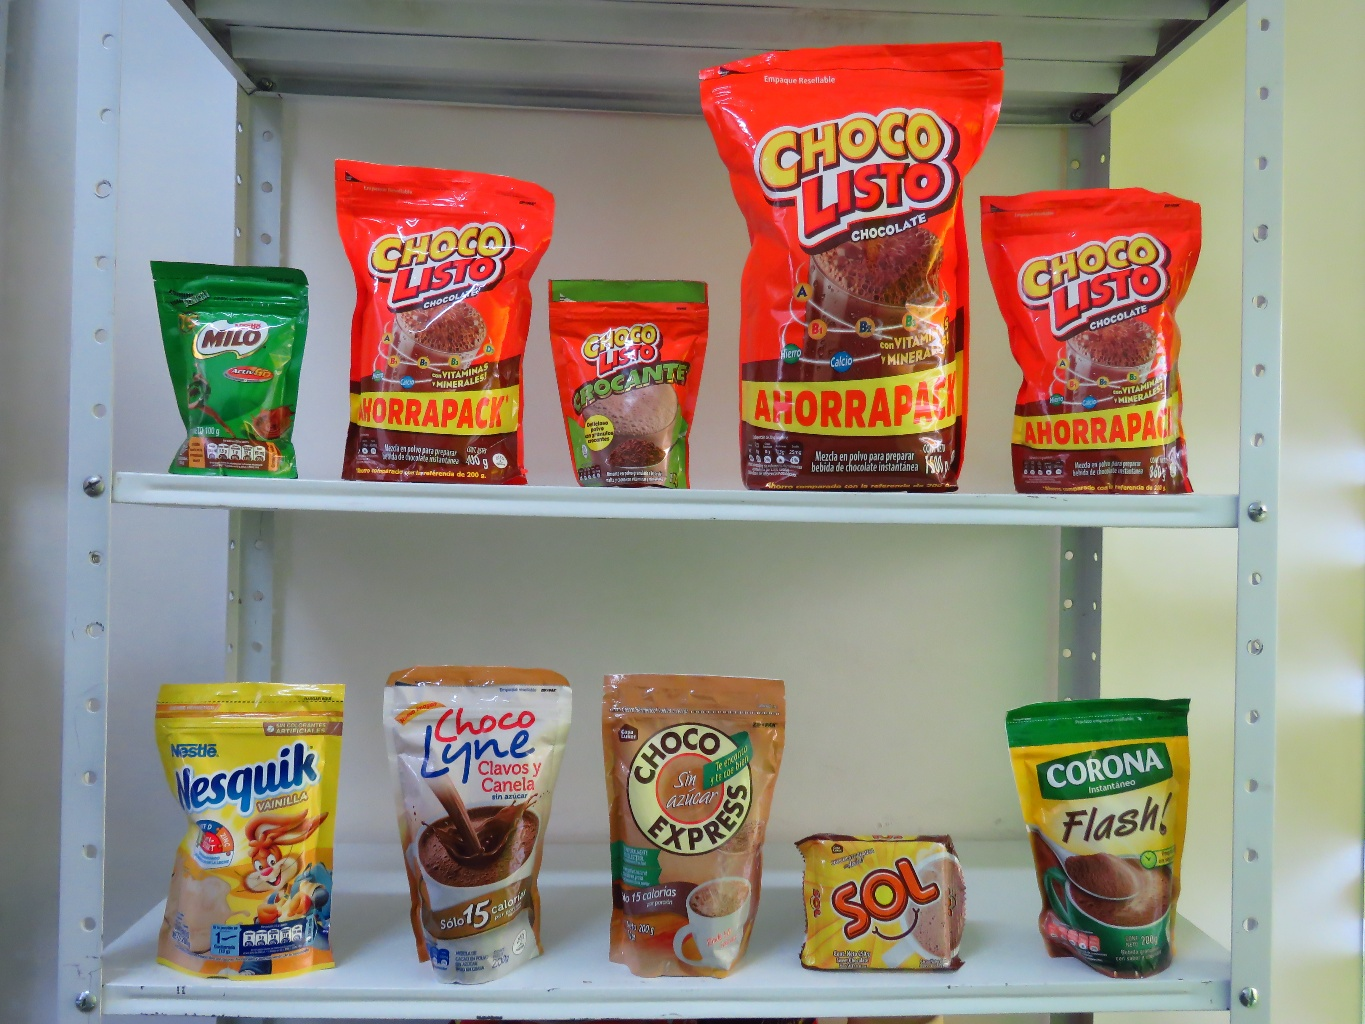COL0170102DYP10000: (548, 278, 716, 490)
COL0170103DYP1,500: (695, 48, 1014, 494)
COL0170103DYP36000: (977, 188, 1204, 490)
COL0170103DYP40000: (333, 154, 553, 488)
COL0170203DYP10000: (143, 259, 311, 481)
COL0170306DYP20000: (155, 680, 346, 982)
